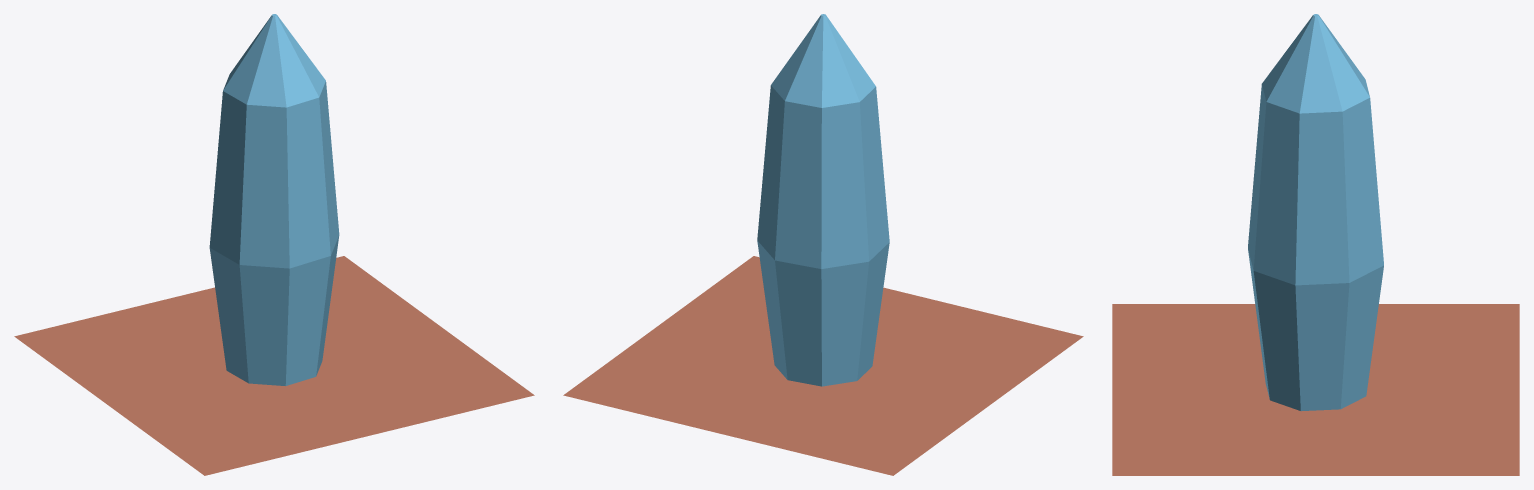
The model's file is kek.glb.
3 renders of one model, left to right at view 1: azimuth 30°, elevation 25°; view 2: azimuth 150°, elevation 25°; view 3: azimuth 270°, elevation 25°, orthographic. The views are drawn at different scales.
Visible parts, largest first — view 1: Plane; view 2: Plane; view 3: Plane.
Part boxes in pixels (x1=…): Plane: x1=14, y1=14, x2=534, y2=475; Plane: x1=563, y1=14, x2=1083, y2=475; Plane: x1=1112, y1=14, x2=1519, y2=475.
Size of the model in its own units: 2 by 2.03 by 2.
